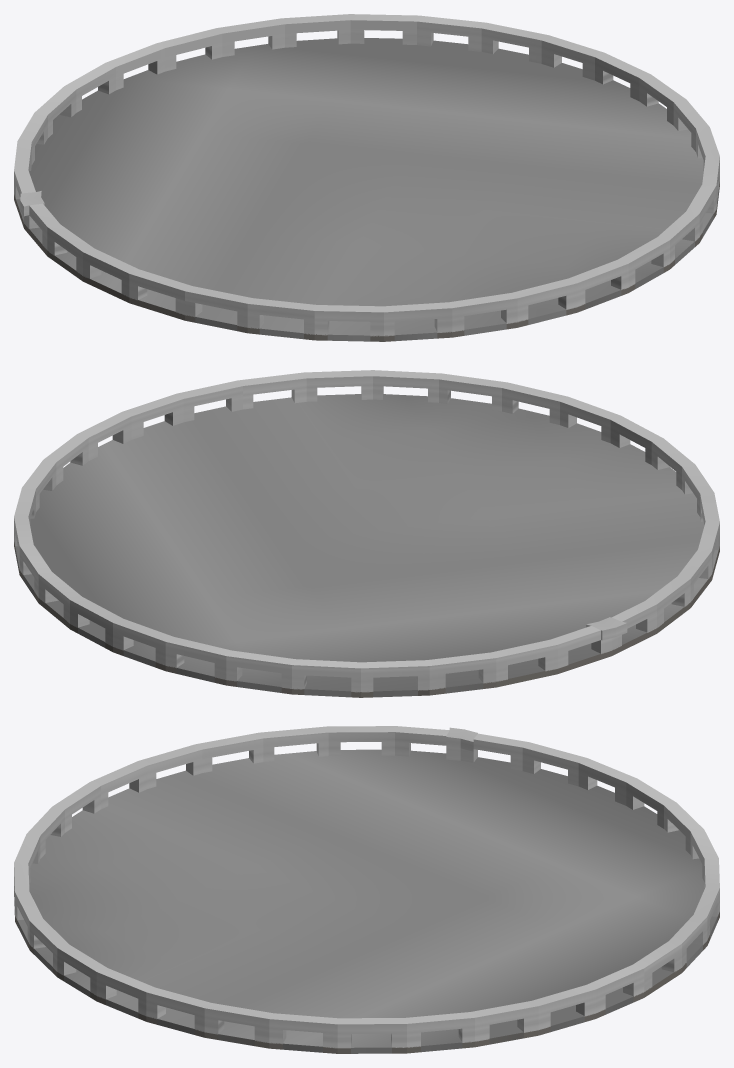
Rendered from arena-gj2.fbx.
3 renders of one model, top to bottom at view 1: azimuth 30°, elevation 25°; view 2: azimuth 150°, elevation 25°; view 3: azimuth 270°, elevation 25°, orthographic.
Visible parts, largest first — view 1: ArenaFloor, ArenaFance; view 2: ArenaFloor, ArenaFance; view 3: ArenaFloor, ArenaFance.
Boxes of the visible parts, <box> form: ArenaFloor: <box>14,38,719,341</box>; ArenaFance: <box>14,14,719,336</box>; ArenaFloor: <box>14,394,719,697</box>; ArenaFance: <box>14,370,719,692</box>; ArenaFloor: <box>14,749,719,1053</box>; ArenaFance: <box>14,726,719,1048</box>.
Bounding box in the file's own units: 4784 × 229 × 4784.
2 materials, 2 textured.
